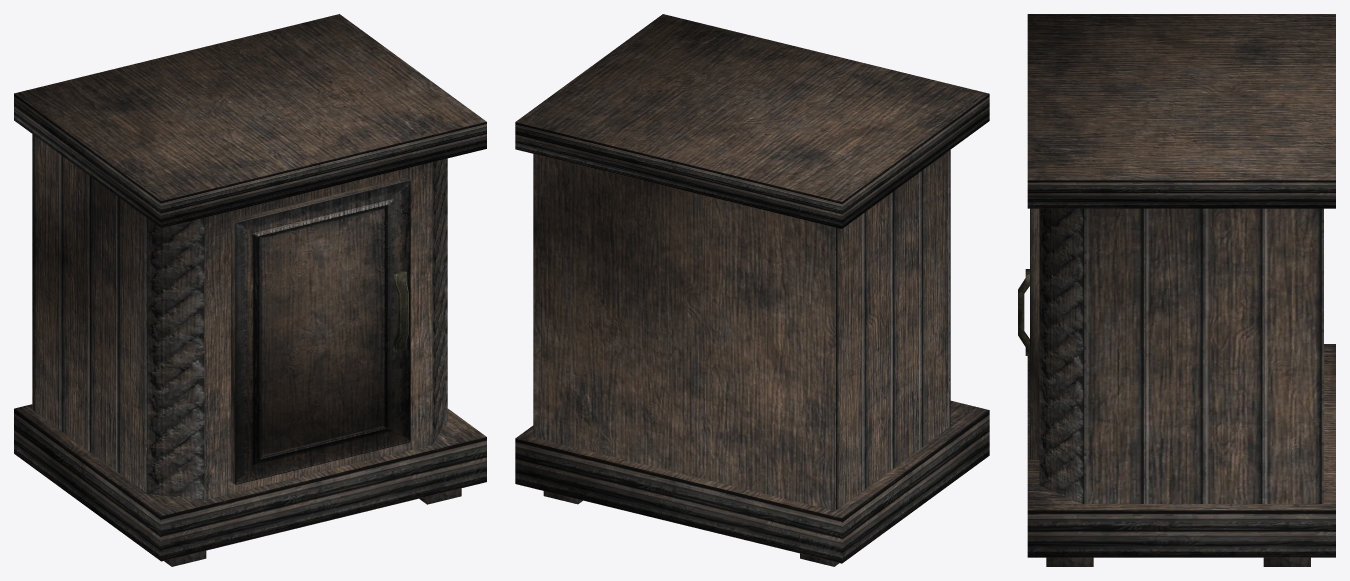
The model's file is GS_VOB_BEDCASE_BLACK_01_KOZA.glb.
3 views of the same model, side by side, from view 1: azimuth 30°, elevation 25°; view 2: azimuth 150°, elevation 25°; view 3: azimuth 270°, elevation 25° (orthographic). The views are drawn at different scales.
Parts seen in each view (by area): view 1: Mesh; view 2: Mesh; view 3: Mesh.
Part boxes in pixels (left/top/right/bottom): Mesh: left=14, top=14, right=486, bottom=566; Mesh: left=515, top=14, right=989, bottom=566; Mesh: left=1018, top=14, right=1335, bottom=566.
Size of the model in its own units: 0.8159 by 0.9034 by 0.6589.
Materials: 4 (4 with a texture image).
